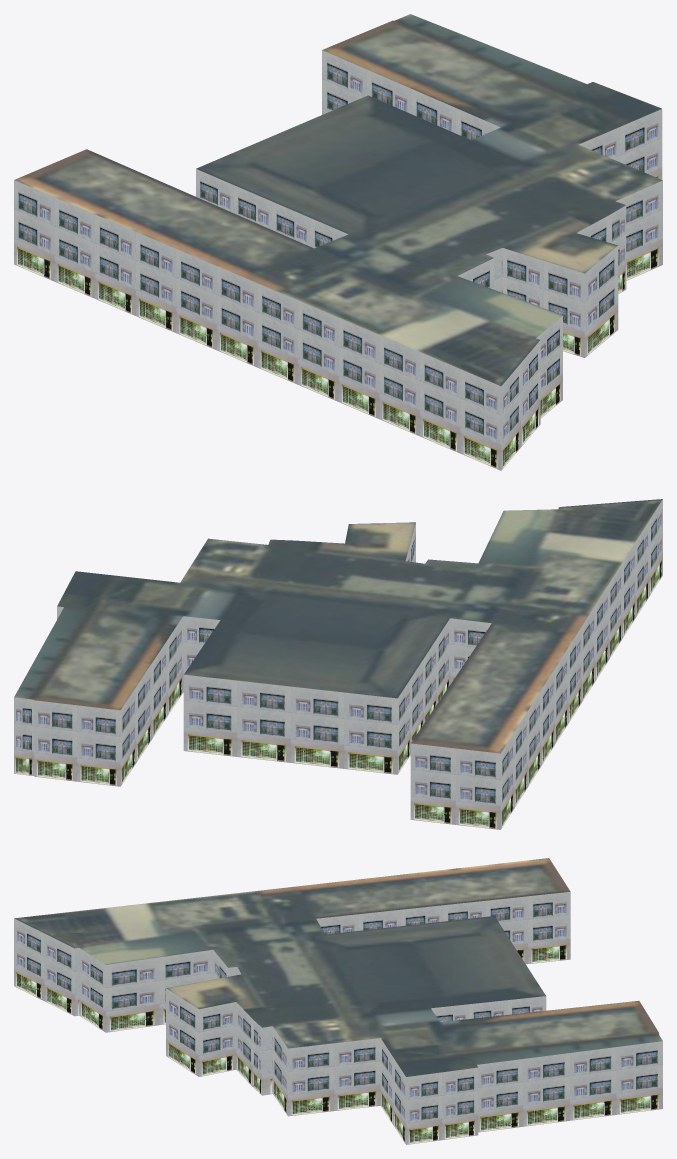
3 renders of one model, top to bottom at view 1: azimuth 30°, elevation 25°; view 2: azimuth 150°, elevation 25°; view 3: azimuth 270°, elevation 25°, orthographic. The views are drawn at different scales.
Parts seen in each view (by area): view 1: SketchUp (×3); view 2: SketchUp (×3); view 3: SketchUp (×3).
Part boxes in pixels (x1,y1,x2,y2): SketchUp (×3): [14, 14, 662, 470]; SketchUp (×3): [14, 499, 662, 829]; SketchUp (×3): [14, 858, 662, 1144].
Size of the model in its own units: 2929 by 3667 by 423.
Materials: 3 (3 with a texture image).
